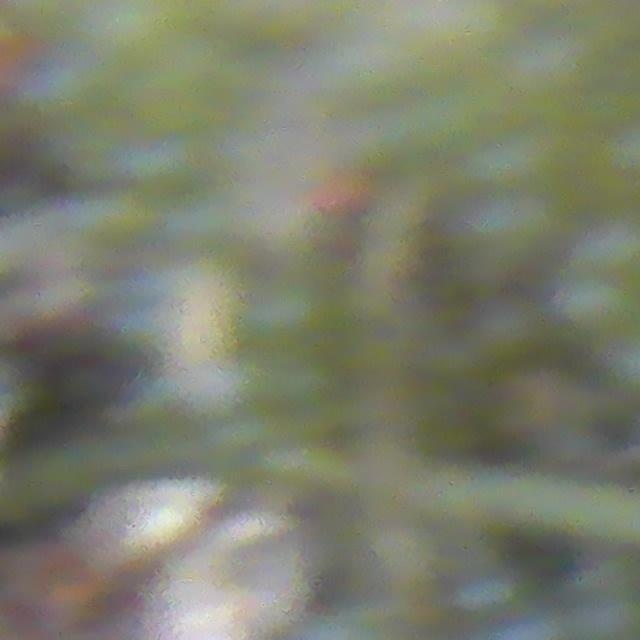SeaGrape: (553, 271, 631, 346), (576, 228, 640, 293)
